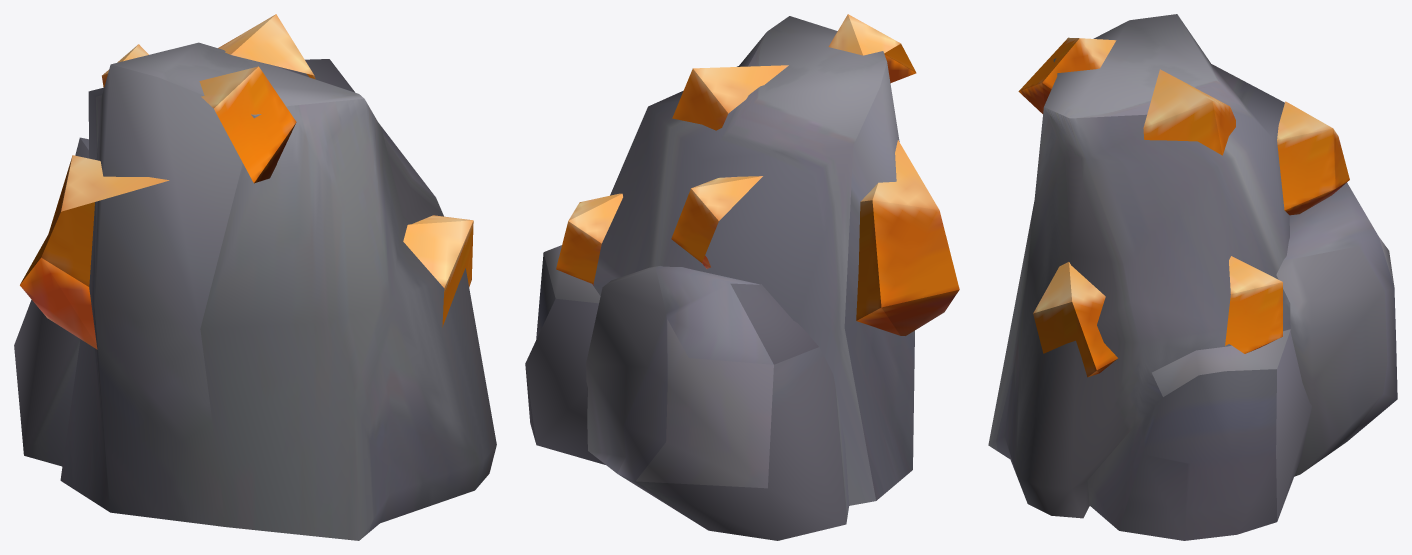
Rendered from RockLargeCopper.fbx.
3 views of the same model, side by side, from view 1: azimuth 30°, elevation 25°; view 2: azimuth 150°, elevation 25°; view 3: azimuth 270°, elevation 25° (orthographic). The views are drawn at different scales.
Parts seen in each view (by area): view 1: RockMesh, Resource1 (3), Resource3, Resource2, Resource2 (1); view 2: RockMesh, Resource1 (3), Resource2 (1), Resource1 (1), Resource1 (2), Resource3; view 3: RockMesh, Resource1 (1), Resource2, Resource2 (1), Resource1 (2), Resource3.
Boxes of the visible parts, x1=… form: RockMesh: x1=14, y1=42, x2=496, y2=540; Resource1 (3): x1=20, y1=155, x2=169, y2=349; Resource3: x1=199, y1=66, x2=296, y2=183; Resource2: x1=403, y1=215, x2=473, y2=327; Resource2 (1): x1=218, y1=14, x2=315, y2=79; RockMesh: x1=525, y1=16, x2=914, y2=540; Resource1 (3): x1=856, y1=140, x2=959, y2=335; Resource2 (1): x1=672, y1=65, x2=788, y2=130; Resource1 (1): x1=671, y1=176, x2=762, y2=268; Resource1 (2): x1=556, y1=193, x2=622, y2=285; Resource3: x1=828, y1=14, x2=916, y2=83; RockMesh: x1=988, y1=14, x2=1397, y2=540; Resource1 (1): x1=1277, y1=101, x2=1349, y2=215; Resource2: x1=1033, y1=262, x2=1117, y2=377; Resource2 (1): x1=1143, y1=69, x2=1235, y2=155; Resource1 (2): x1=1225, y1=256, x2=1282, y2=353; Resource3: x1=1018, y1=37, x2=1116, y2=113.
Size of what is drawn, in the model's own units: 2.25 by 2.12 by 2.03.
